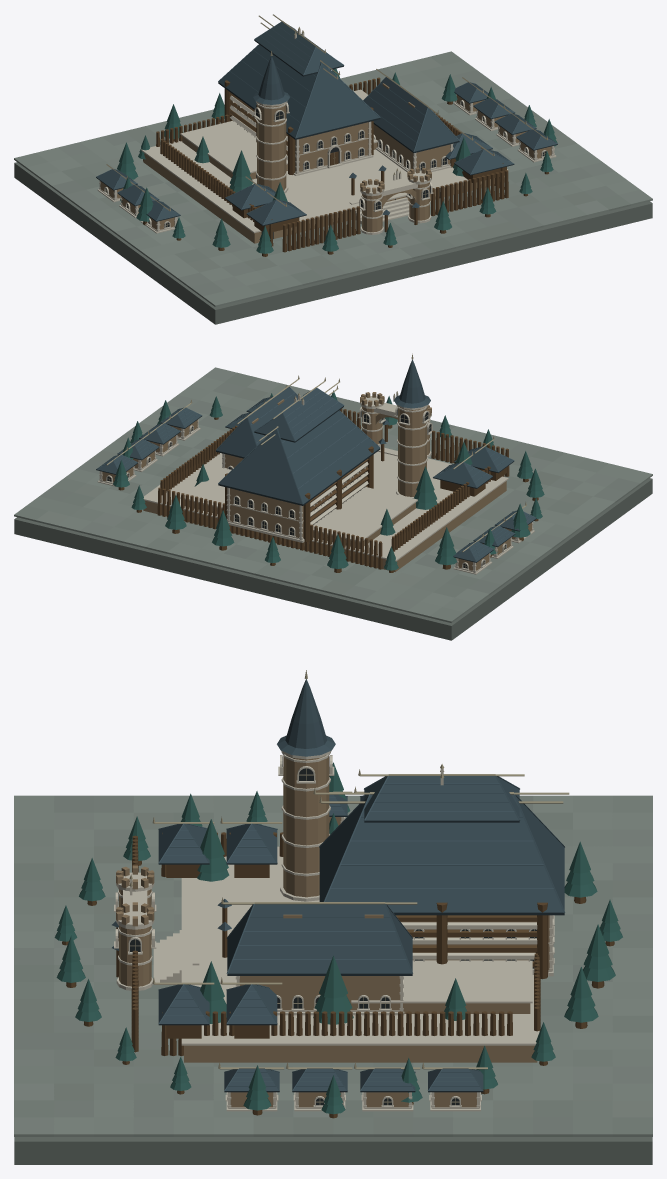
The model's file is taiga.glb.
The picture shows the model from 3 angles, top to bottom: view 1: azimuth 30°, elevation 25°; view 2: azimuth 150°, elevation 25°; view 3: azimuth 270°, elevation 25°; orthographic projection. The views are drawn at different scales.
Visible parts, largest first — view 1: site, banked-platform, palisade, moot-hall-roof, landscape, stave-tower-roof, stave-tower, moot-hall, landscape-roof, banked-platform-roof, palisade-roof; view 2: site, banked-platform, moot-hall-roof, palisade, landscape, moot-hall, landscape-roof, stave-tower-roof, stave-tower, banked-platform-roof; view 3: site, moot-hall-roof, banked-platform, landscape, stave-tower-roof, palisade, stave-tower, banked-platform-roof, moot-hall, landscape-roof, palisade-roof.
Boxes of the visible parts, x1=… form: site: x1=14, y1=51, x2=652, y2=324; banked-platform: x1=141, y1=89, x2=508, y2=243; palisade: x1=156, y1=77, x2=508, y2=252; moot-hall-roof: x1=218, y1=14, x2=380, y2=139; landscape: x1=97, y1=68, x2=557, y2=256; stave-tower-roof: x1=253, y1=51, x2=459, y2=152; stave-tower: x1=253, y1=83, x2=453, y2=193; moot-hall: x1=224, y1=80, x2=373, y2=175; landscape-roof: x1=96, y1=77, x2=557, y2=221; banked-platform-roof: x1=225, y1=125, x2=514, y2=225; palisade-roof: x1=360, y1=167, x2=431, y2=193; site: x1=14, y1=367, x2=652, y2=640; banked-platform: x1=143, y1=446, x2=508, y2=571; moot-hall-roof: x1=218, y1=377, x2=380, y2=505; palisade: x1=157, y1=396, x2=509, y2=569; landscape: x1=97, y1=390, x2=544, y2=574; moot-hall: x1=225, y1=446, x2=373, y2=542; landscape-roof: x1=96, y1=399, x2=536, y2=562; stave-tower-roof: x1=216, y1=353, x2=430, y2=458; stave-tower: x1=222, y1=399, x2=430, y2=498; banked-platform-roof: x1=225, y1=385, x2=514, y2=488; site: x1=14, y1=795, x2=652, y2=1164; moot-hall-roof: x1=313, y1=769, x2=569, y2=915; banked-platform: x1=153, y1=846, x2=539, y2=1062; landscape: x1=54, y1=762, x2=622, y2=1118; stave-tower-roof: x1=221, y1=670, x2=417, y2=975; palisade: x1=114, y1=813, x2=540, y2=1056; stave-tower: x1=234, y1=750, x2=404, y2=1015; banked-platform-roof: x1=152, y1=816, x2=282, y2=1025; moot-hall: x1=396, y1=902, x2=554, y2=979; landscape-roof: x1=218, y1=786, x2=487, y2=1092; palisade-roof: x1=116, y1=865, x2=154, y2=926.
Bounding box in the file's own units: 59.01 × 22.11 × 47.06.
